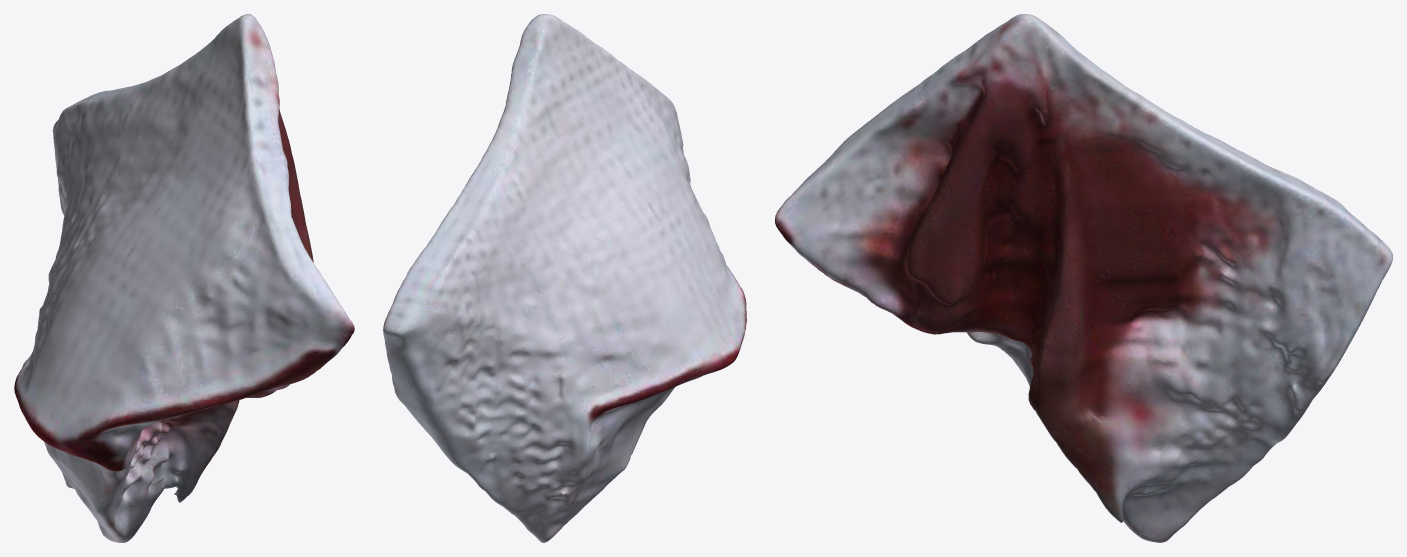
Rendered from rag-with-blood.glb.
The picture shows the model from 3 angles, left to right: view 1: azimuth 30°, elevation 25°; view 2: azimuth 150°, elevation 25°; view 3: azimuth 270°, elevation 25°; orthographic projection. The views are drawn at different scales.
Parts seen in each view (by area): view 1: RagWithBlood; view 2: RagWithBlood; view 3: RagWithBlood.
Part boxes in pixels (x1,y1,x2,y2): RagWithBlood: (14,14,354,542); RagWithBlood: (383,14,746,542); RagWithBlood: (775,14,1392,542).
Bounding box in the file's own units: 0.2498 × 0.559 × 0.5592.
Materials: 1 (1 with a texture image).
